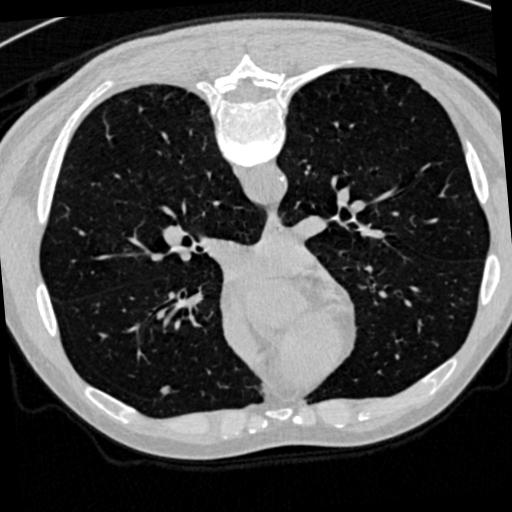nodule: (158, 385, 171, 398)
